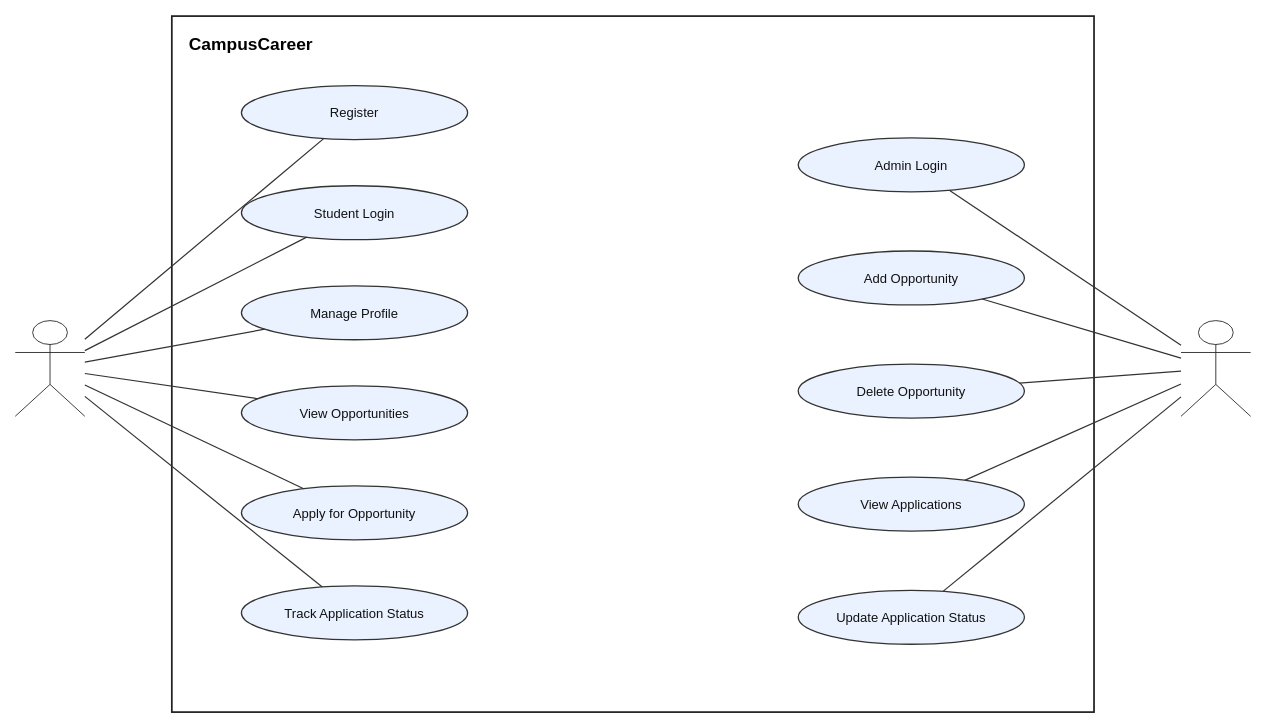
The diagram is 1266 pixels wide and 727 high, and some of its shapes have lost their labels. The shapes that lost their labels are listed below. From the top down, each one's centre as x and y in pixels, then its label:
At (49,368): "Student".
At (1215,368): "Admin".
